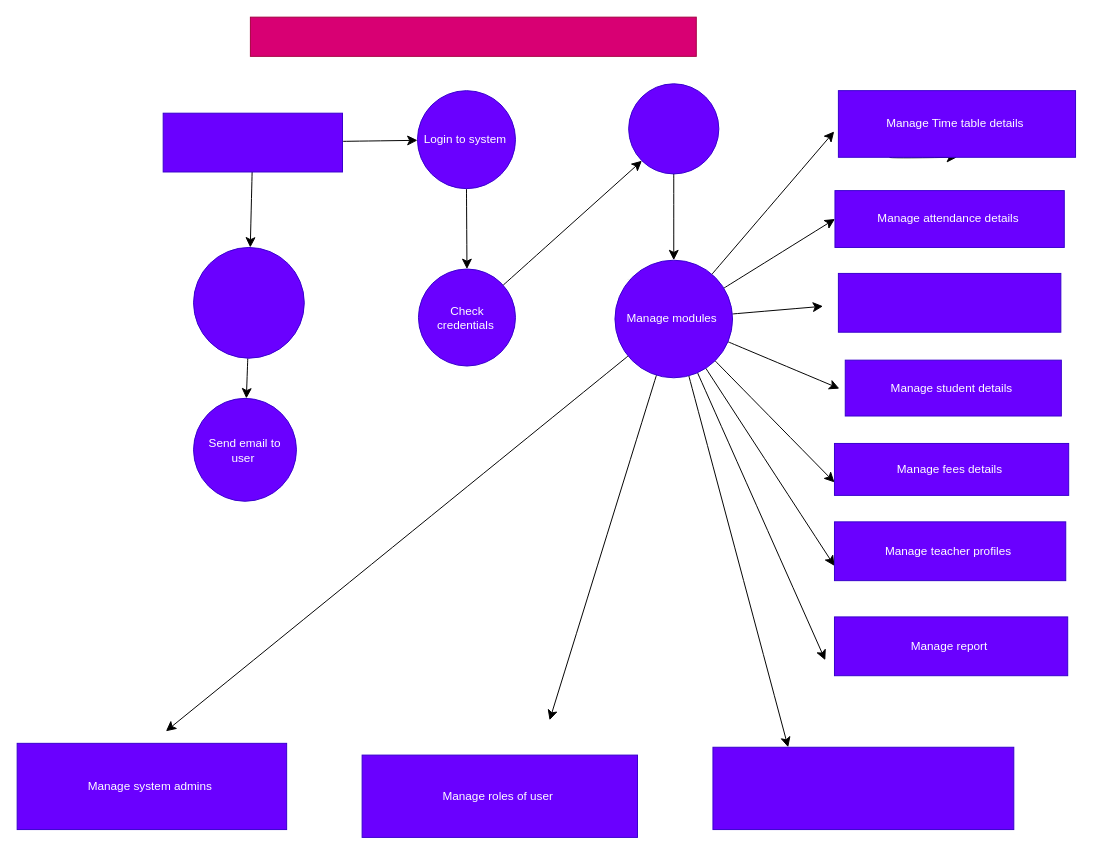
The diagram is 1093 pixels wide and 855 high, and some of its shapes have lost their labels. The box of each missing label's shape, as (x1, y1, x2, y2) in pixels:
Admin: (162, 112, 343, 172)
Check roles of acess: (628, 83, 719, 174)
Forgot password: (193, 246, 304, 358)
Manage class details: (837, 272, 1061, 332)
Manage user permission: (712, 746, 1014, 830)
Student information system: (249, 16, 696, 56)
